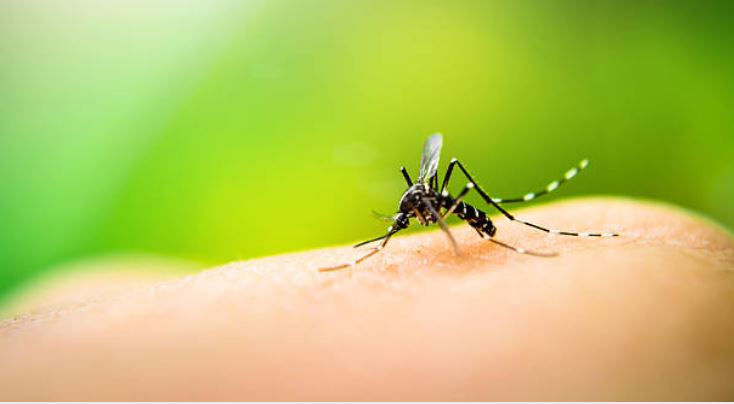dengue_mosquito: (350, 123, 624, 263), (353, 130, 621, 249)
